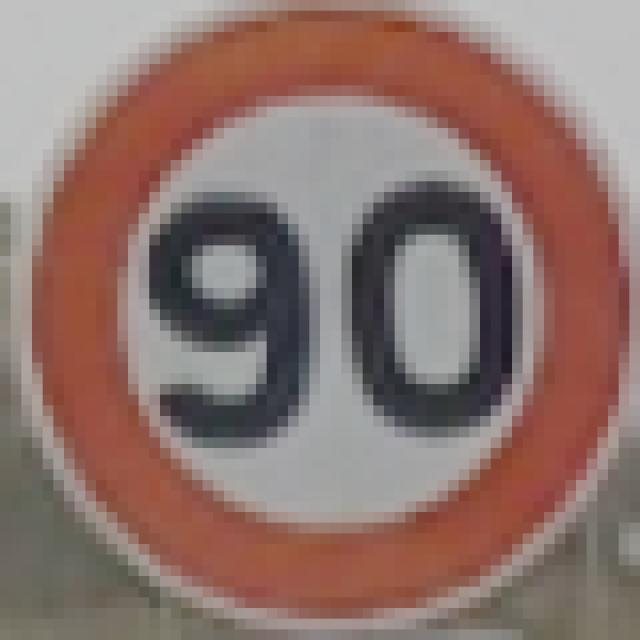speed_90: (0, 0, 629, 629)
